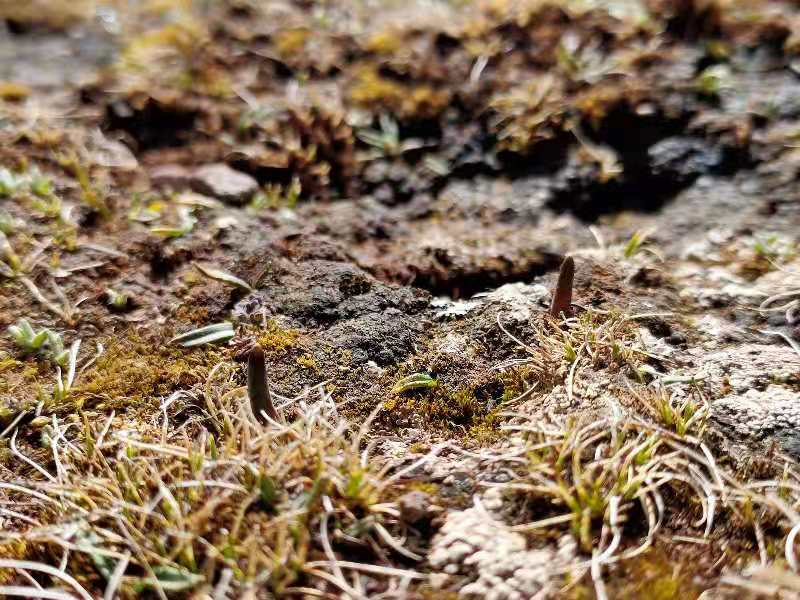Chongcao: (245, 344, 278, 425), (551, 254, 575, 315)
